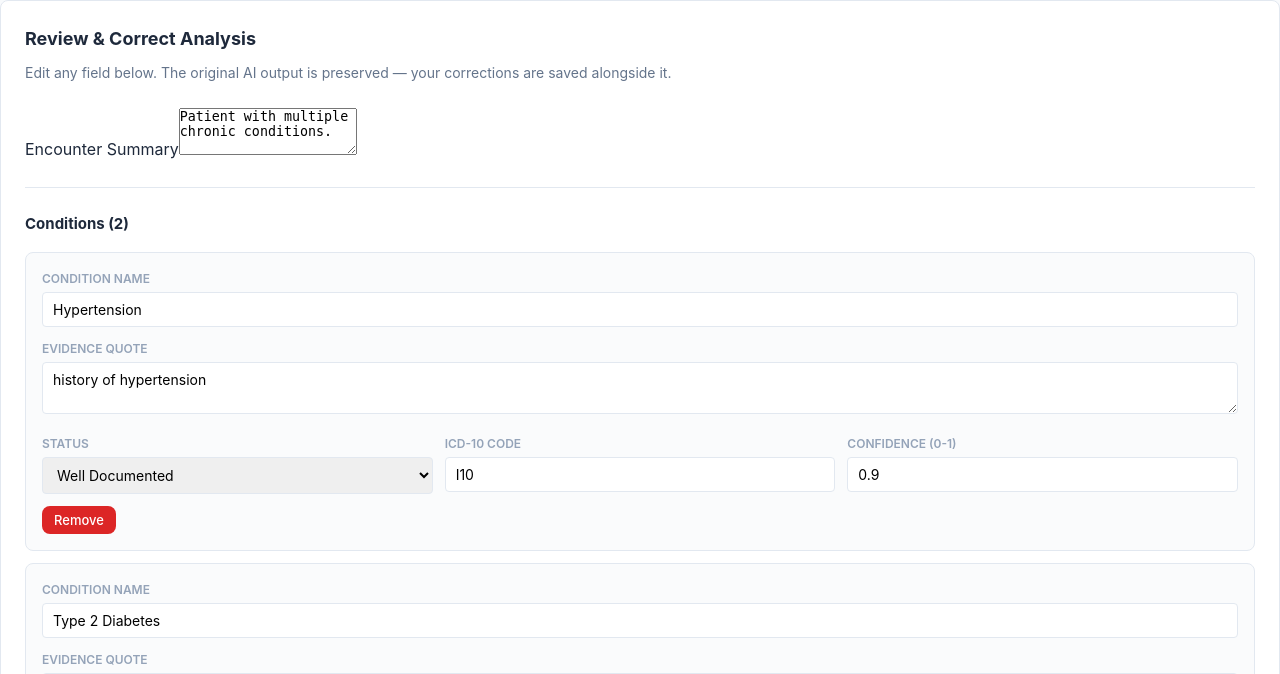
Scenario: ReviewEditor › allows removing a condition
The image size is (1280, 674).
Click the button "Remove": point(79, 520) [42,506,116,534]
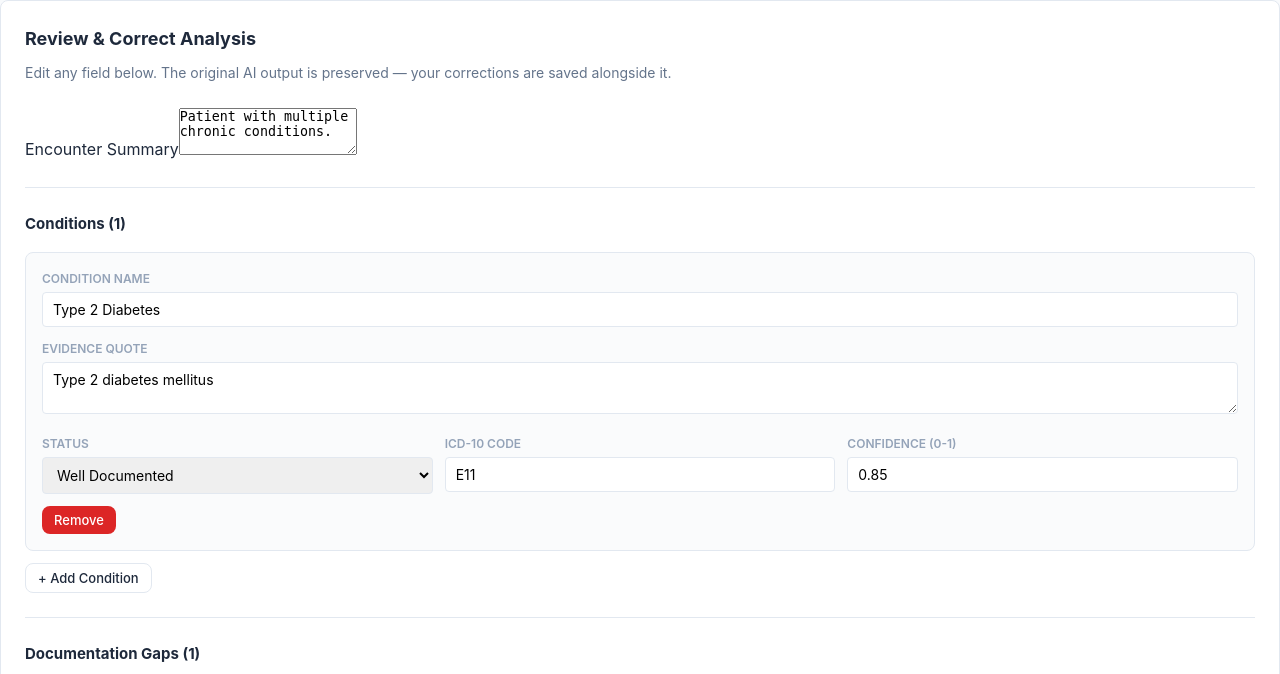
Check: the heading "Conditions (1)" is shown, box [25,214,126,233]
